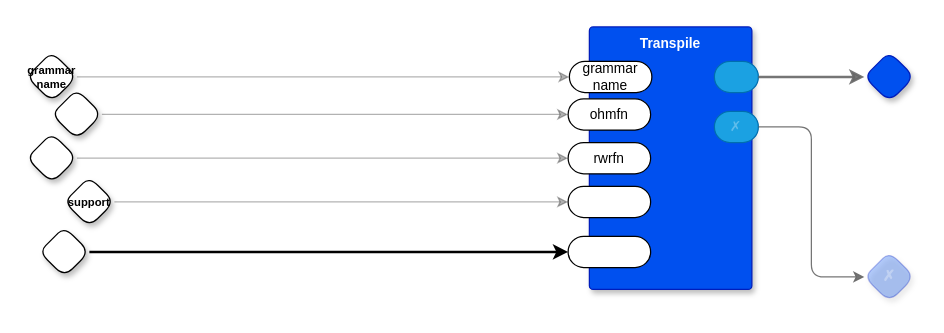
Image size: 944x333. Some labels were removed from this diagram. The centre of each missing label's shape, as x and y in pixels:
input: the point at 609,251
ohm: the point at 77,115
rwr: the point at 52,159
rwrsupportfn: the point at 609,201
